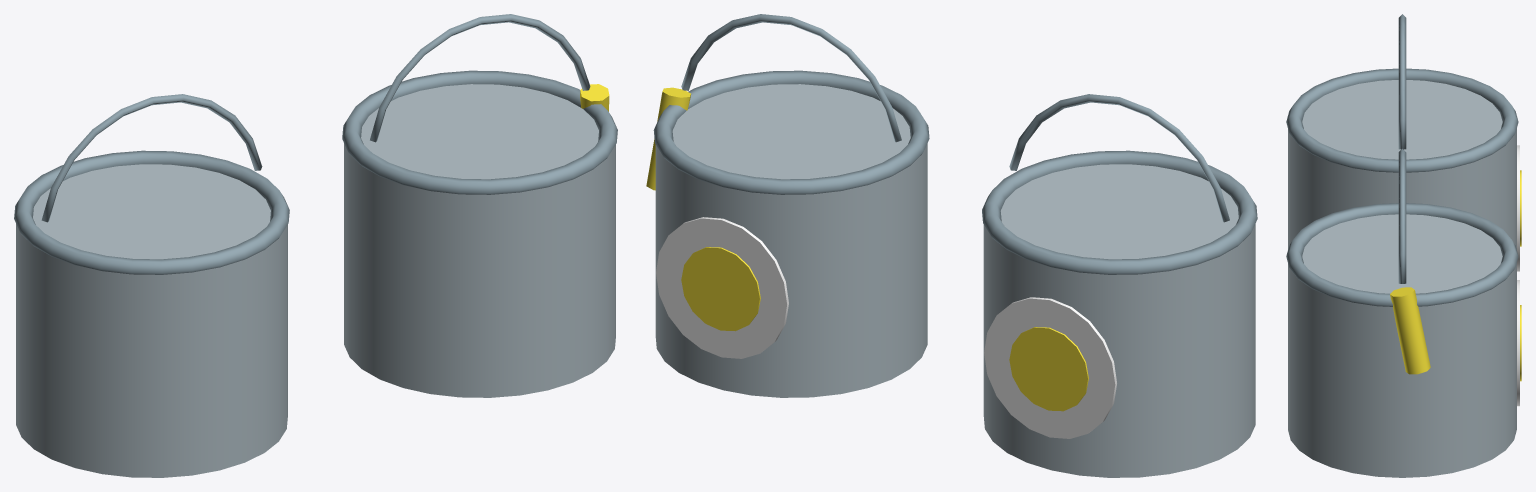
File: paint_cans.fbx
The picture shows the model from 3 angles, left to right: view 1: azimuth 30°, elevation 25°; view 2: azimuth 150°, elevation 25°; view 3: azimuth 270°, elevation 25°; orthographic projection. The views are drawn at different scales.
Visible parts, largest first — view 1: Paint Cans; view 2: Paint Cans; view 3: Paint Cans.
Boxes of the visible parts, x1,y1,x2,y2 form: Paint Cans: (14,14,617,477); Paint Cans: (646,14,1257,477); Paint Cans: (1286,14,1521,477).
Size of the model in its own units: 1.77 by 0.942 by 0.74.
